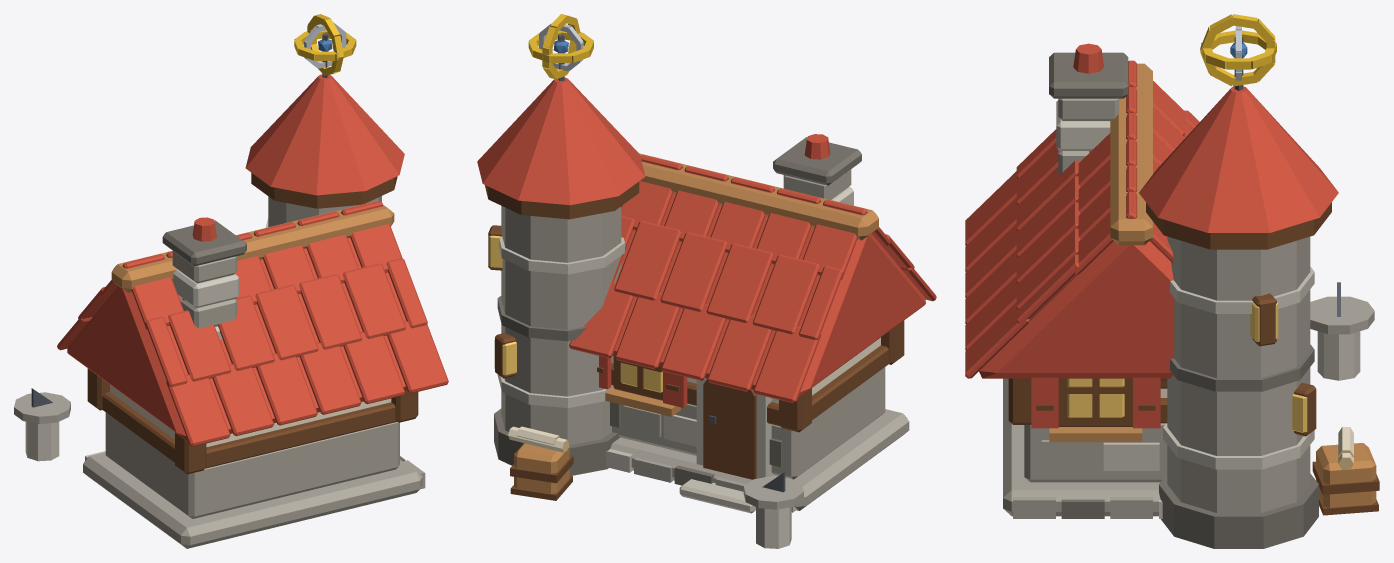
Rendered from scriptorium_l1.fbx.
3 views of the same model, side by side, from view 1: azimuth 30°, elevation 25°; view 2: azimuth 150°, elevation 25°; view 3: azimuth 270°, elevation 25° (orthographic). The views are drawn at different scales.
Visible parts, largest first — view 1: scriptorium_l1, Vane; view 2: scriptorium_l1, Vane; view 3: scriptorium_l1, Vane.
Part boxes in pixels (left/top/right/bottom): scriptorium_l1: left=14, top=33, right=448, bottom=548; Vane: left=294, top=14, right=356, bottom=75; scriptorium_l1: left=477, top=34, right=936, bottom=548; Vane: left=528, top=14, right=593, bottom=79; scriptorium_l1: left=965, top=37, right=1379, bottom=548; Vane: left=1200, top=14, right=1276, bottom=86.
Size of the model in its own units: 0.7928 by 0.9279 by 0.6956.
